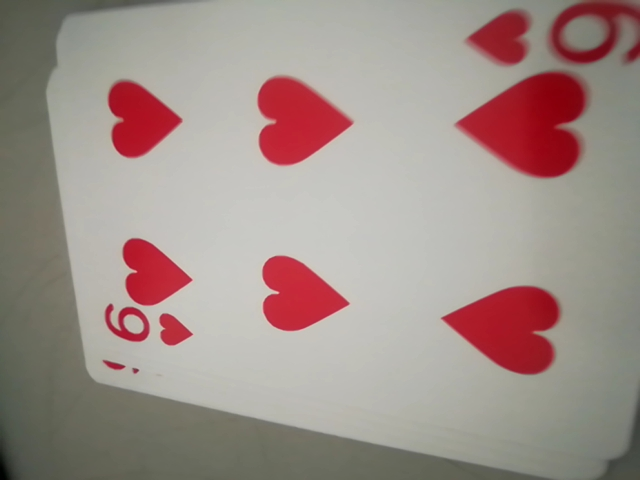hx 6: (98, 301, 192, 365)
